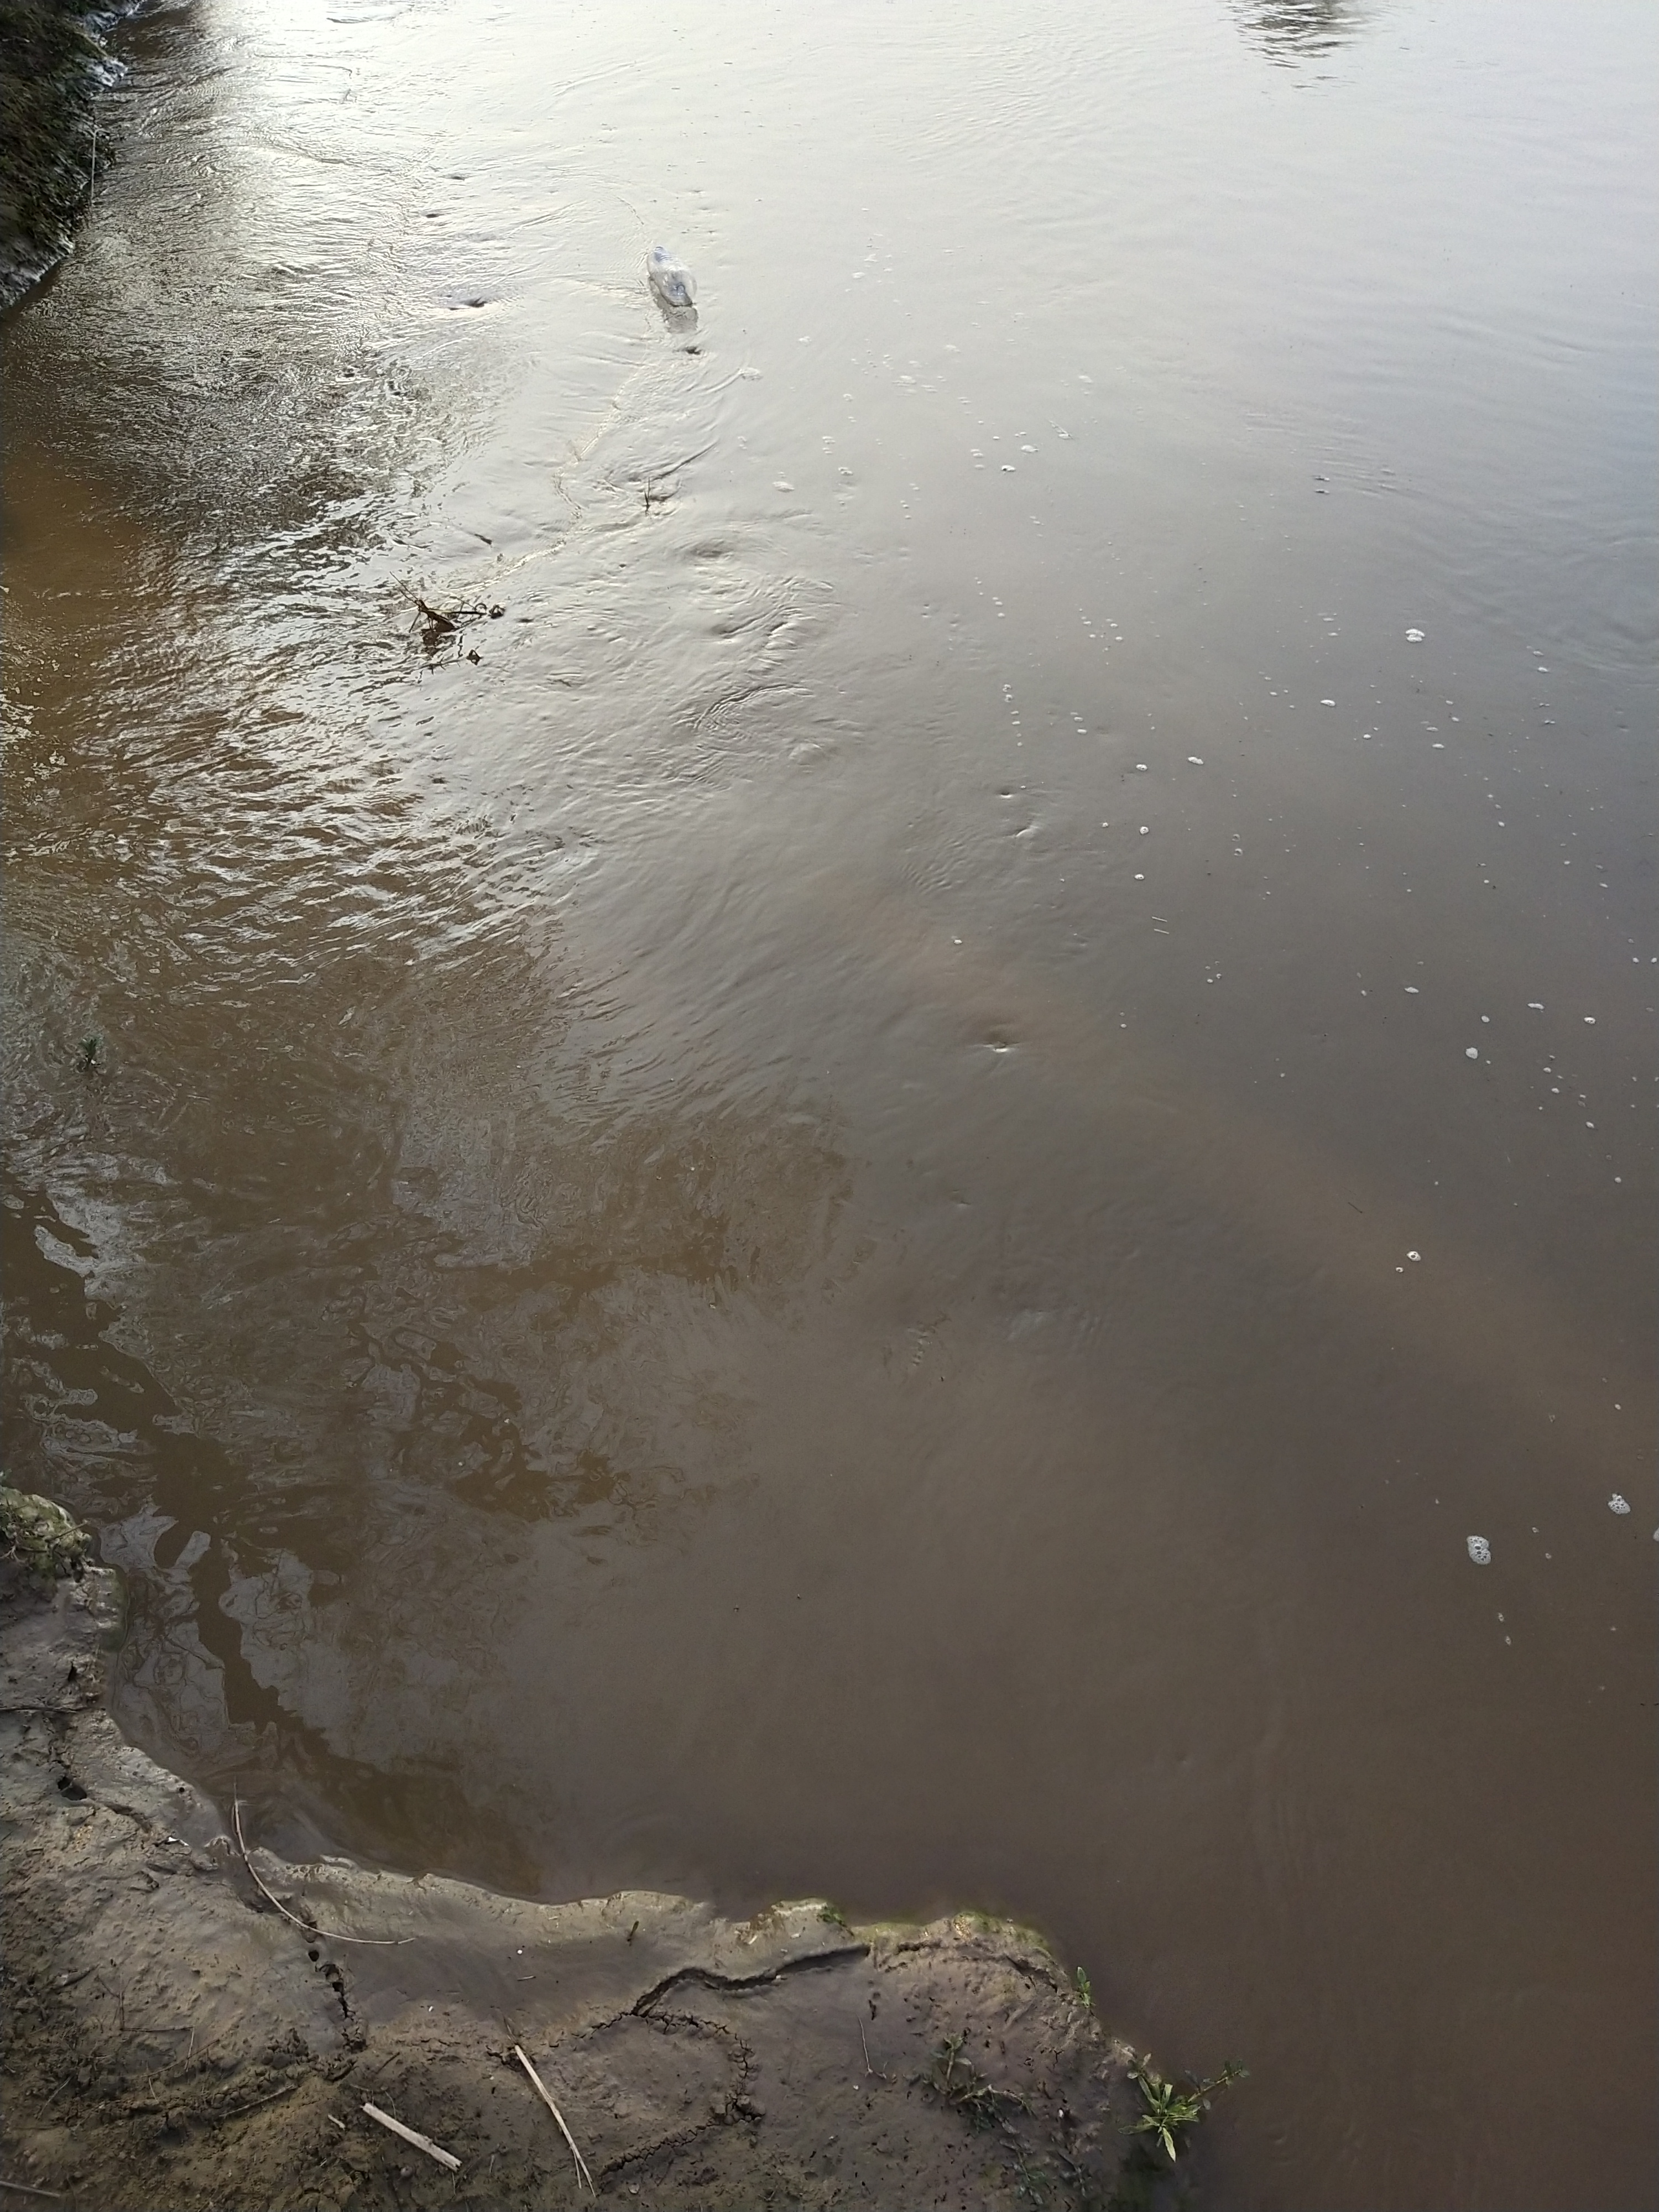Plastic Bottle: (647, 246, 697, 307)
